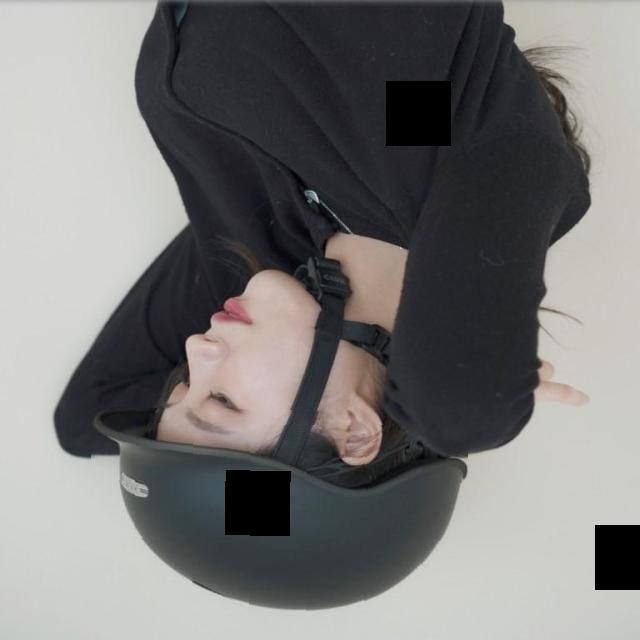helmet: (89, 408, 468, 614)
